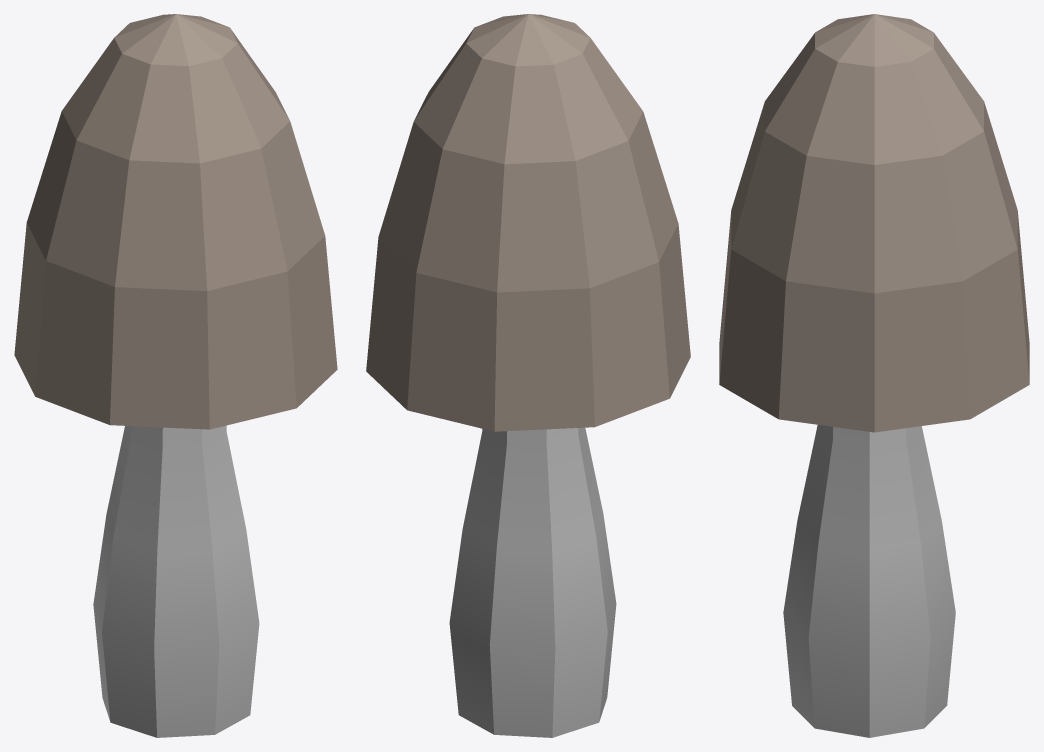
Rendered from mushroom001.fbx.
The picture shows the model from 3 angles, left to right: view 1: azimuth 30°, elevation 25°; view 2: azimuth 150°, elevation 25°; view 3: azimuth 270°, elevation 25°; orthographic projection.
Visible parts, largest first — view 1: mushroom001; view 2: mushroom001; view 3: mushroom001.
Boxes of the visible parts, x1,y1,x2,y2 form: mushroom001: (14, 14, 337, 737); mushroom001: (366, 14, 690, 737); mushroom001: (719, 14, 1029, 737).
Size of the model in its own units: 3.04 by 2.89 by 7.13.
